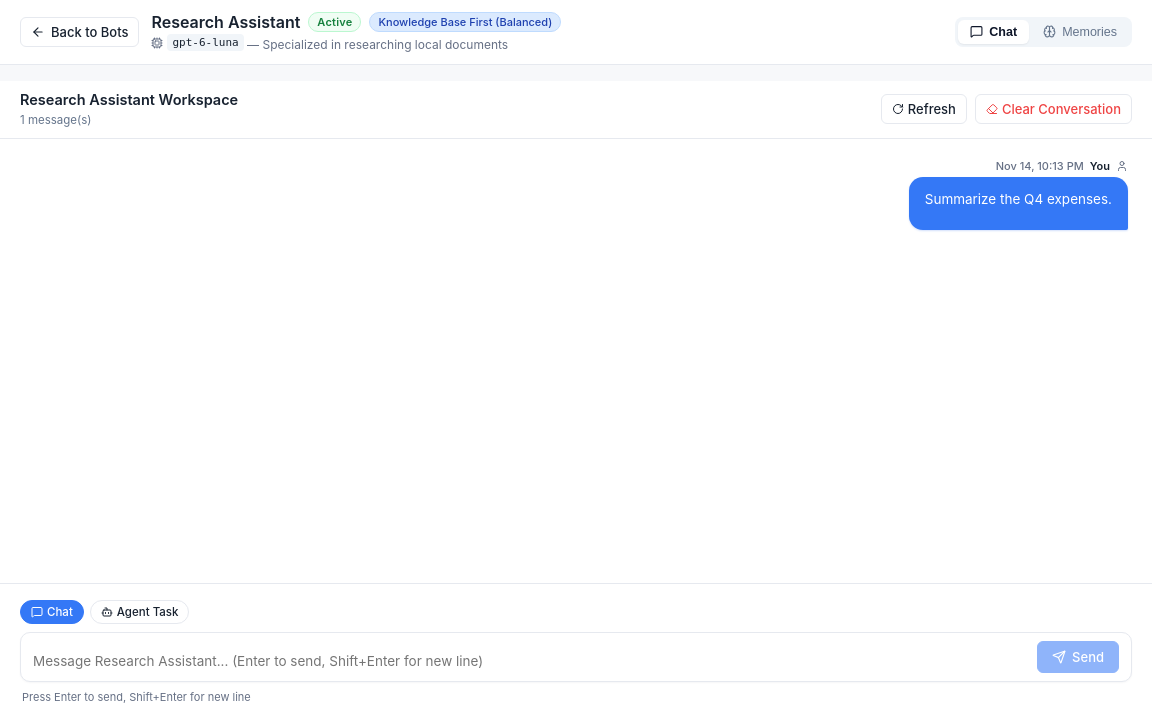
Test: Renderer: BotConversationsWorkspacePage Unified Single Conversation (Phase 12 Step 12.2) › 11. displays sanitized turn error alert when generation fails
The image size is (1152, 720).
Replace the text in the text box with test id "message-input" with "Trigger error" at (530, 661), box [33,649,1027,673]
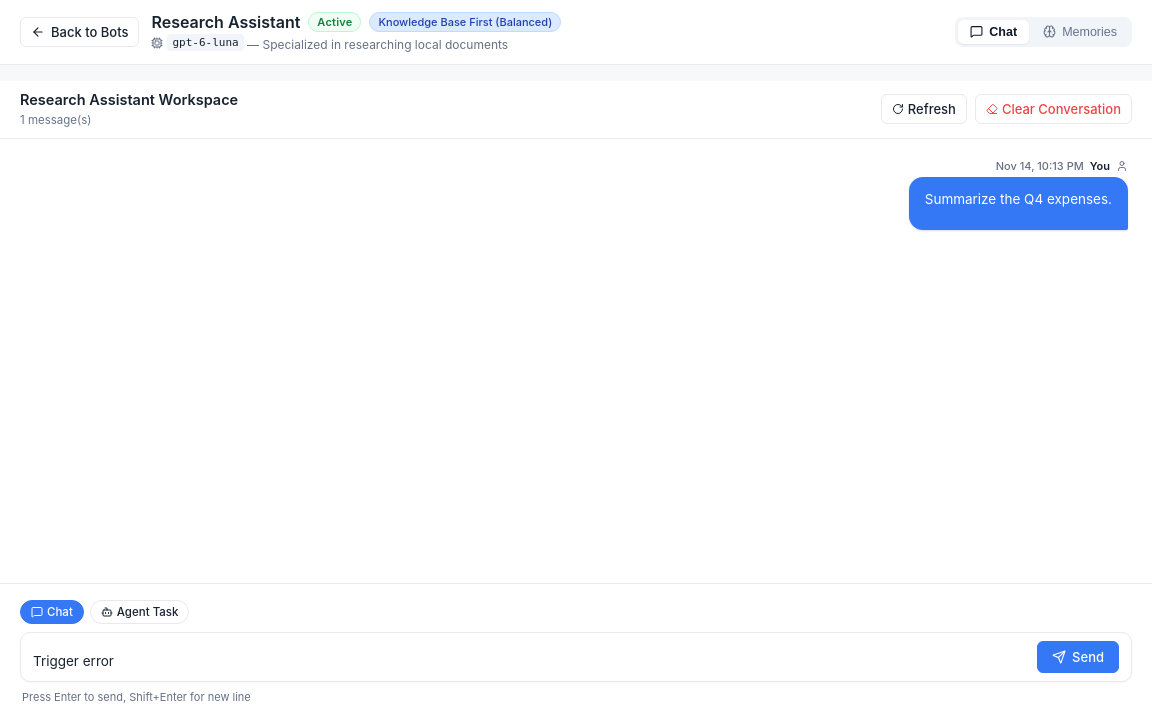
Click the button with test id "send-message-btn" at (1078, 657), box [1037,641,1119,673]
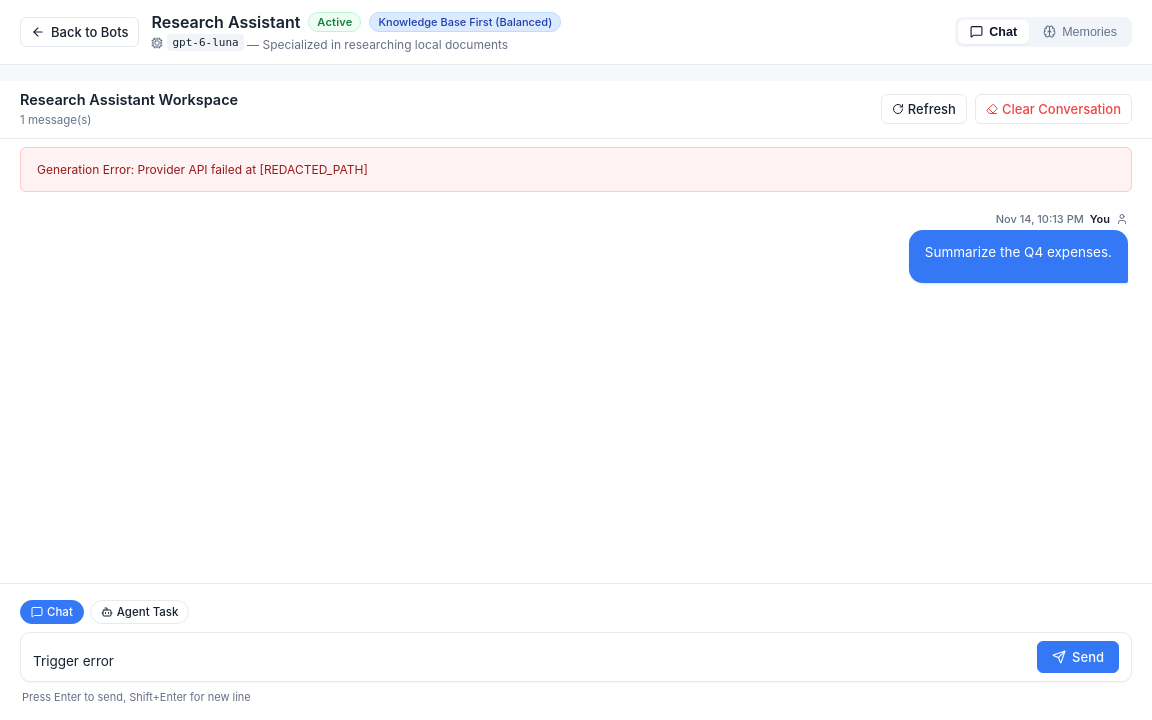
Expected: the message "Generation Error: Provider API failed at [REDACTED_PATH]" is shown, [20,146,1132,192]
Expected: the message with test id "turn-error-alert" shows "Generation Error", [37,162,138,176]
Expected: the message with test id "turn-error-alert" shows "[REDACTED_PATH]", [138,162,368,176]
